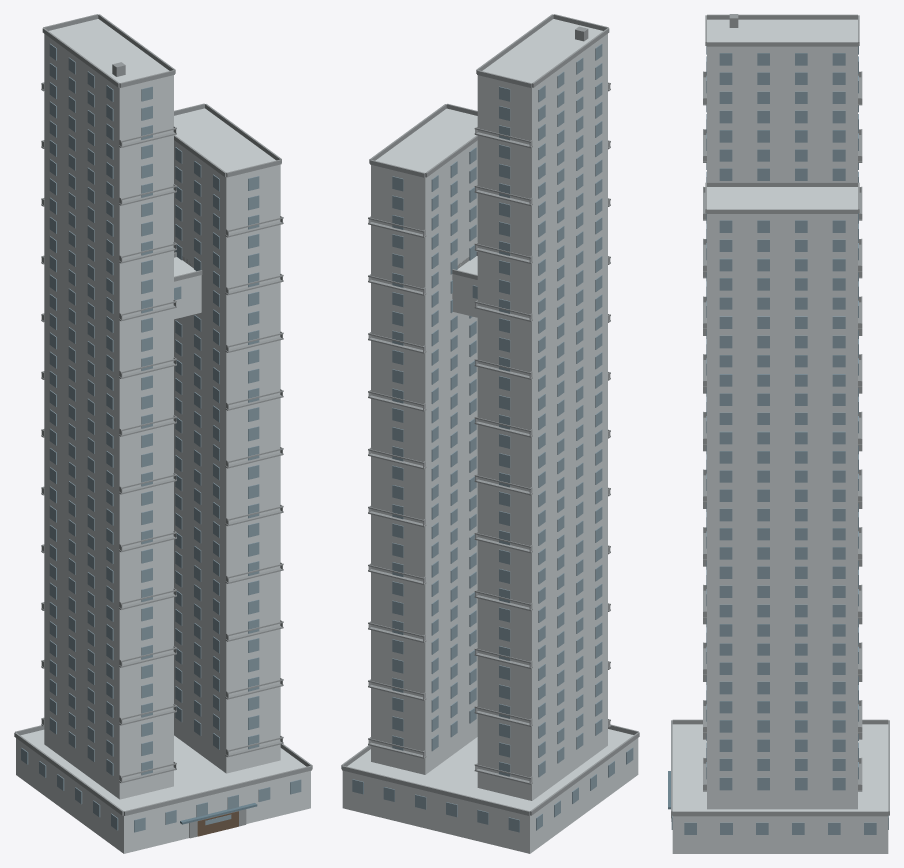
The model's file is residential_4x4_tower_split.glb.
3 views of the same model, side by side, from view 1: azimuth 30°, elevation 25°; view 2: azimuth 150°, elevation 25°; view 3: azimuth 270°, elevation 25° (orthographic).
Parts seen in each view (by area): view 1: residential_4x4_tower_split_0; view 2: residential_4x4_tower_split_0; view 3: residential_4x4_tower_split_0.
Part boxes in pixels (left/top/right/bottom): residential_4x4_tower_split_0: left=14, top=14, right=312, bottom=853; residential_4x4_tower_split_0: left=341, top=14, right=639, bottom=853; residential_4x4_tower_split_0: left=668, top=14, right=889, bottom=853.
Size of the model in its own units: 31 by 118 by 31.4.
